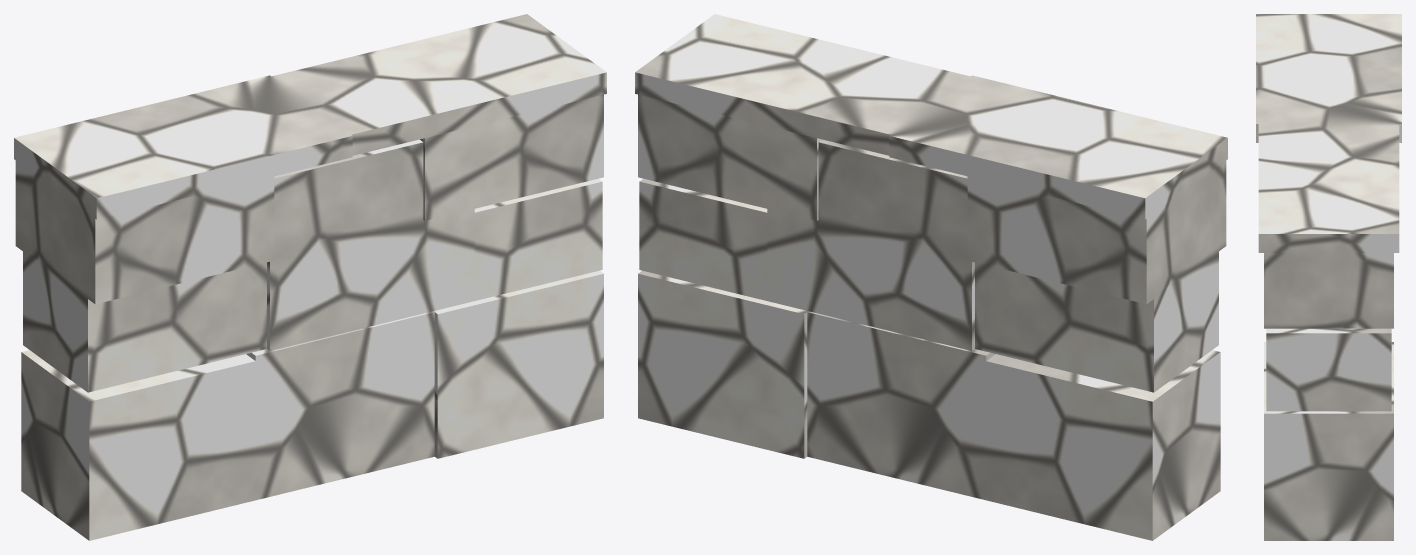
File: muretto.obj
3 renders of one model, left to right at view 1: azimuth 30°, elevation 25°; view 2: azimuth 150°, elevation 25°; view 3: azimuth 270°, elevation 25°, orthographic. The views are drawn at different scales.
Visible parts, largest first — view 1: muretto; view 2: muretto; view 3: muretto.
Part boxes in pixels (left/top/right/bottom): muretto: left=14, top=14, right=606, bottom=540; muretto: left=635, top=14, right=1227, bottom=540; muretto: left=1256, top=14, right=1401, bottom=540.
Bounding box in the file's own units: 2 × 1.3 × 0.56.
3 materials, 3 textured.
